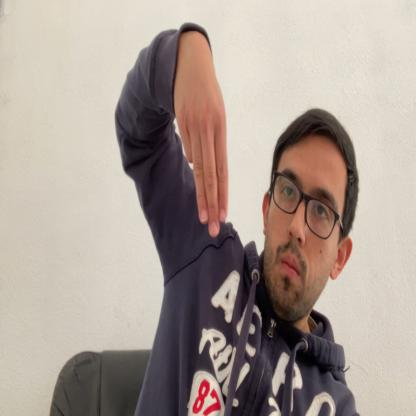M: (175, 25, 229, 238)
